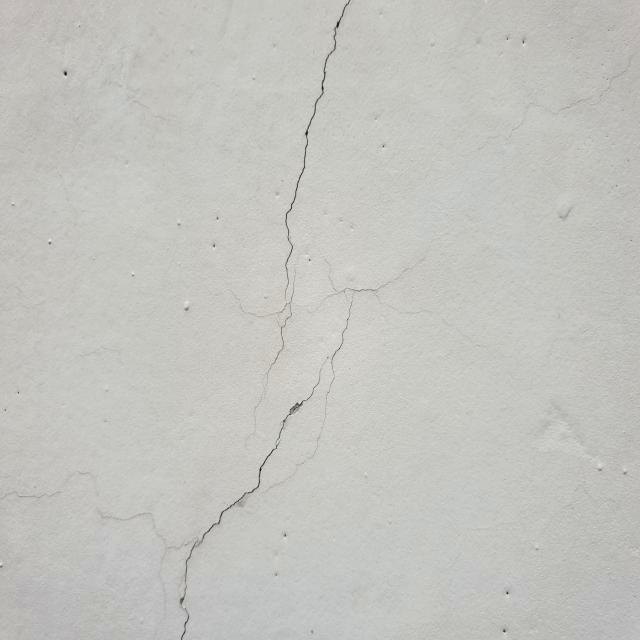SurfaceCrack: (152, 0, 391, 640)
